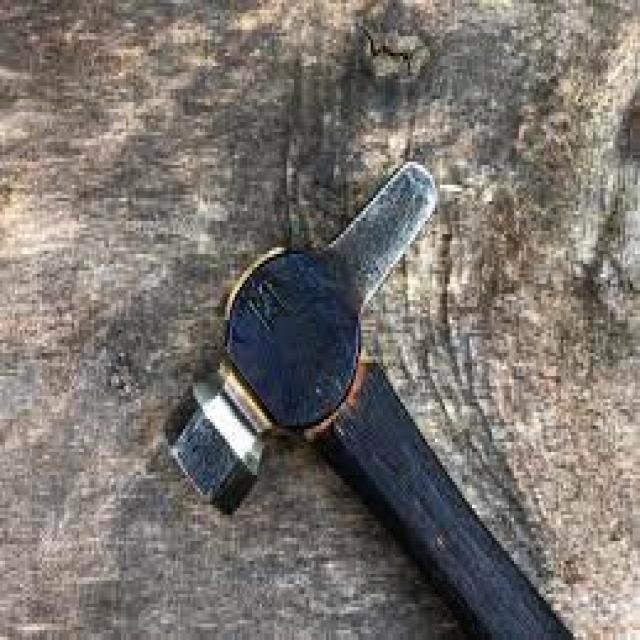hammer: (160, 155, 580, 640)
